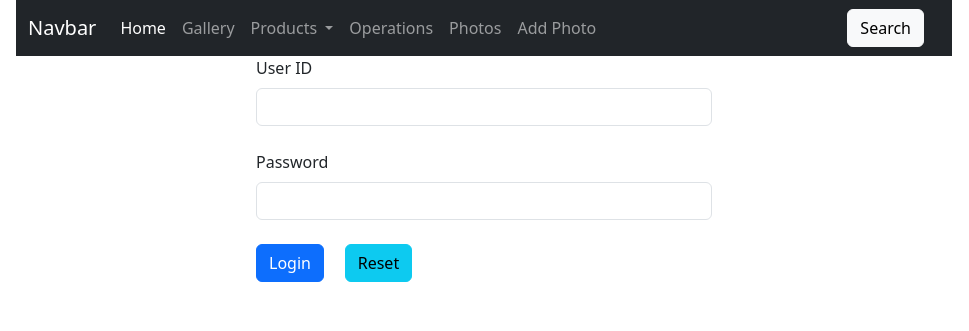
template spec › invalid password
Type "john" into the field.
click(484, 107); type("john")  # box [256,88,712,126]
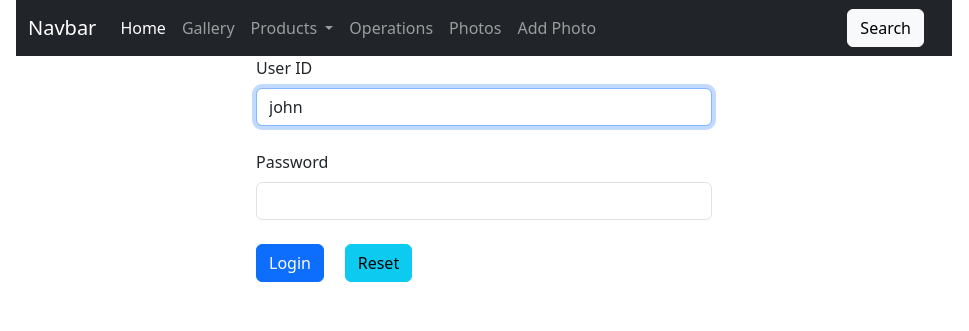
Type "1234" into the password field.
click(484, 201); type("1234")  # box [256,182,712,220]
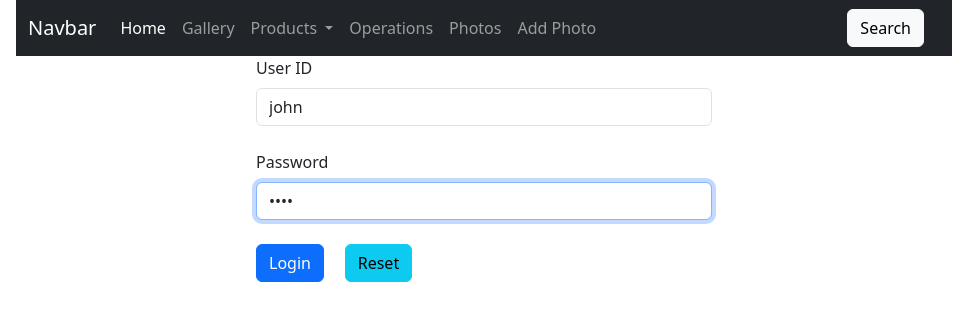
Click the button with id "login".
click(290, 263)  # box [256,244,324,282]
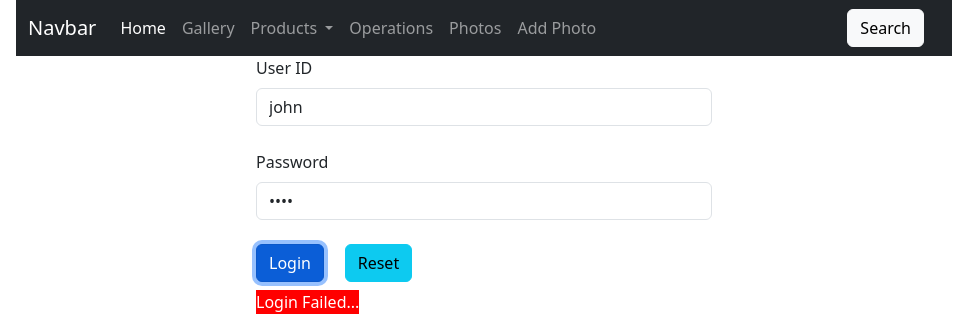
Result: the label with id "lbl" reads "Login Failed..." at [256,290,359,314]
